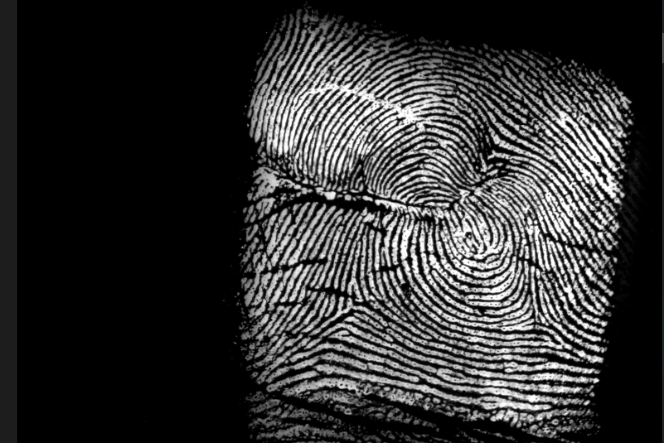nucelo: (463, 217, 497, 261)
verticilo: (520, 300, 553, 332), (337, 289, 368, 318)
